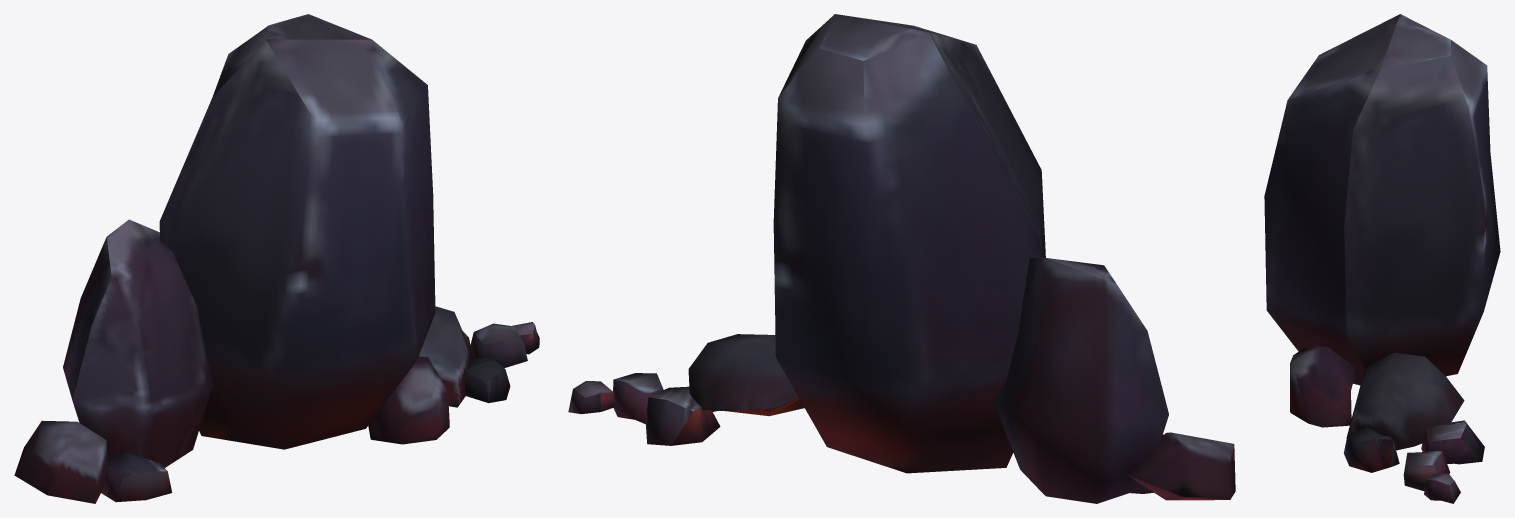
The model's file is hs_shanshi7.FBX.
The picture shows the model from 3 angles, left to right: view 1: azimuth 30°, elevation 25°; view 2: azimuth 150°, elevation 25°; view 3: azimuth 270°, elevation 25°; orthographic projection. The views are drawn at different scales.
Parts seen in each view (by area): view 1: Object09; view 2: Object09; view 3: Object09.
Boxes of the visible parts, box(x1,y1,x2,y2) form: Object09: box(14, 14, 539, 503); Object09: box(568, 14, 1235, 503); Object09: box(1264, 14, 1500, 503).
Size of the model in its own units: 3.61 by 2.43 by 1.45.
